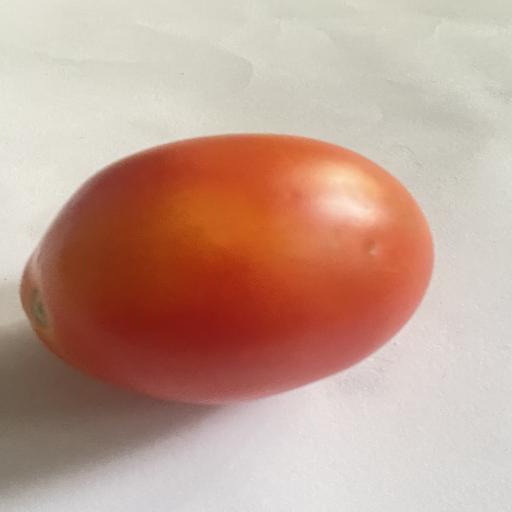ripe: (20, 134, 433, 404)
